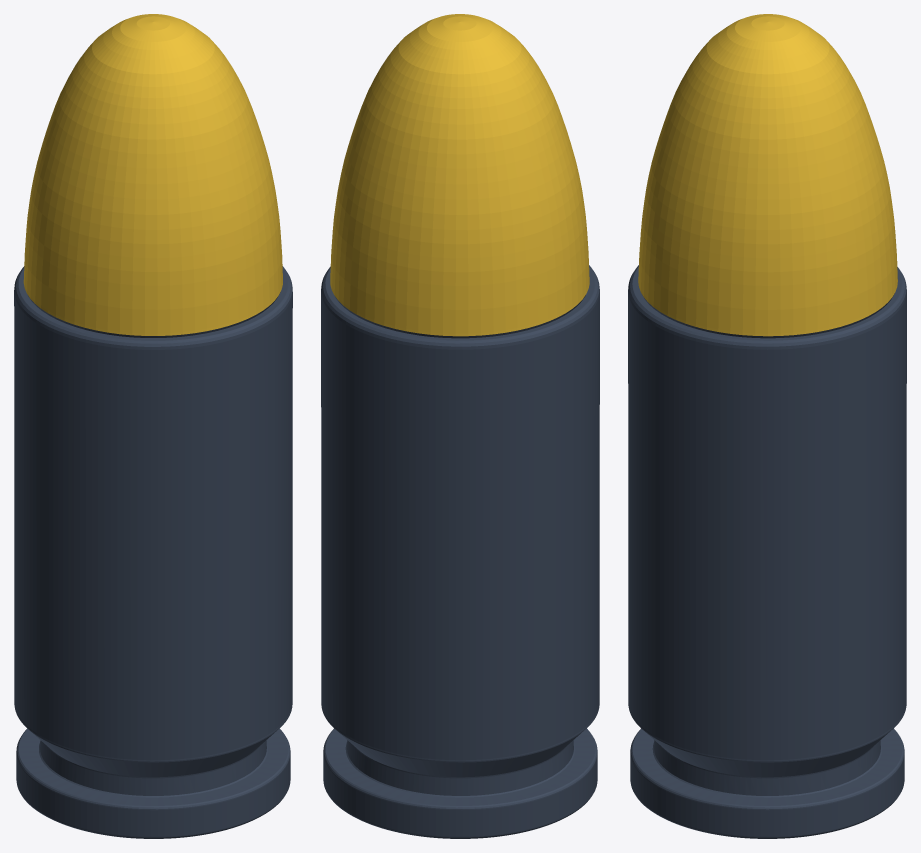
The model's file is Bullet.glb.
3 views of the same model, side by side, from view 1: azimuth 30°, elevation 25°; view 2: azimuth 150°, elevation 25°; view 3: azimuth 270°, elevation 25° (orthographic).
Visible parts, largest first — view 1: Bullet; view 2: Bullet; view 3: Bullet.
Boxes of the visible parts, box(x1,y1,x2,y2) form: Bullet: box(14, 14, 292, 838); Bullet: box(321, 14, 599, 838); Bullet: box(628, 14, 906, 838).
Bounding box in the file's own units: 54.85 × 165 × 54.85.
